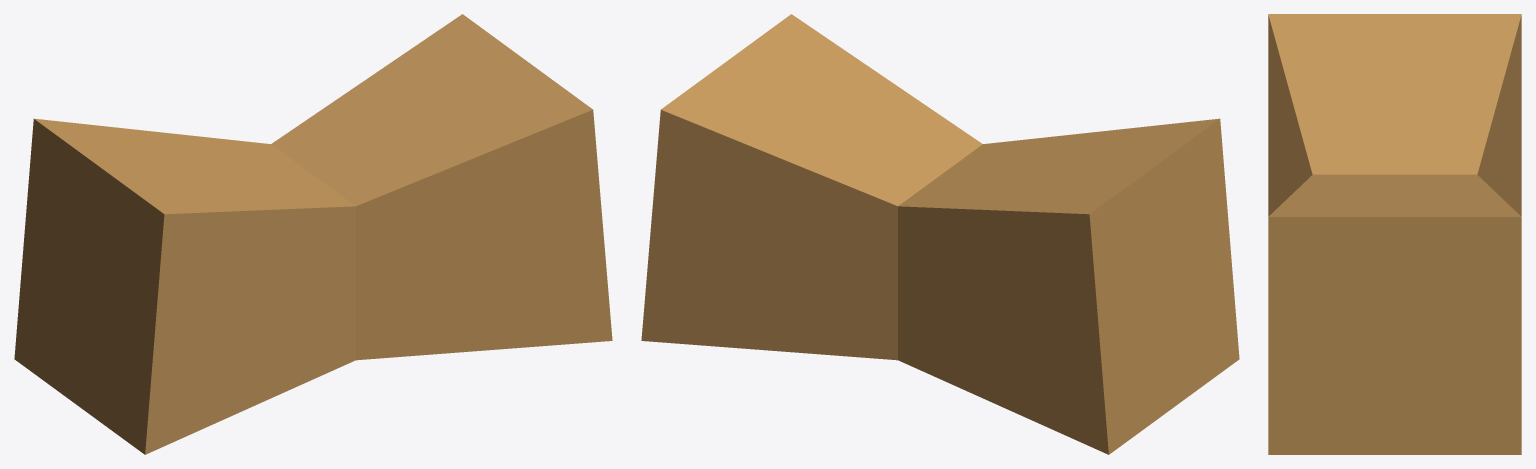
File: Peanut.fbx
3 renders of one model, left to right at view 1: azimuth 30°, elevation 25°; view 2: azimuth 150°, elevation 25°; view 3: azimuth 270°, elevation 25°, orthographic. The views are drawn at different scales.
Parts seen in each view (by area): view 1: Peanut; view 2: Peanut; view 3: Peanut.
Boxes of the visible parts, box(x1,y1,x2,y2) form: Peanut: box(14, 14, 612, 454); Peanut: box(641, 14, 1239, 454); Peanut: box(1268, 14, 1521, 454).
Bounding box in the file's own units: 0.7302 × 0.3523 × 0.3536.
1 material, 1 textured.
